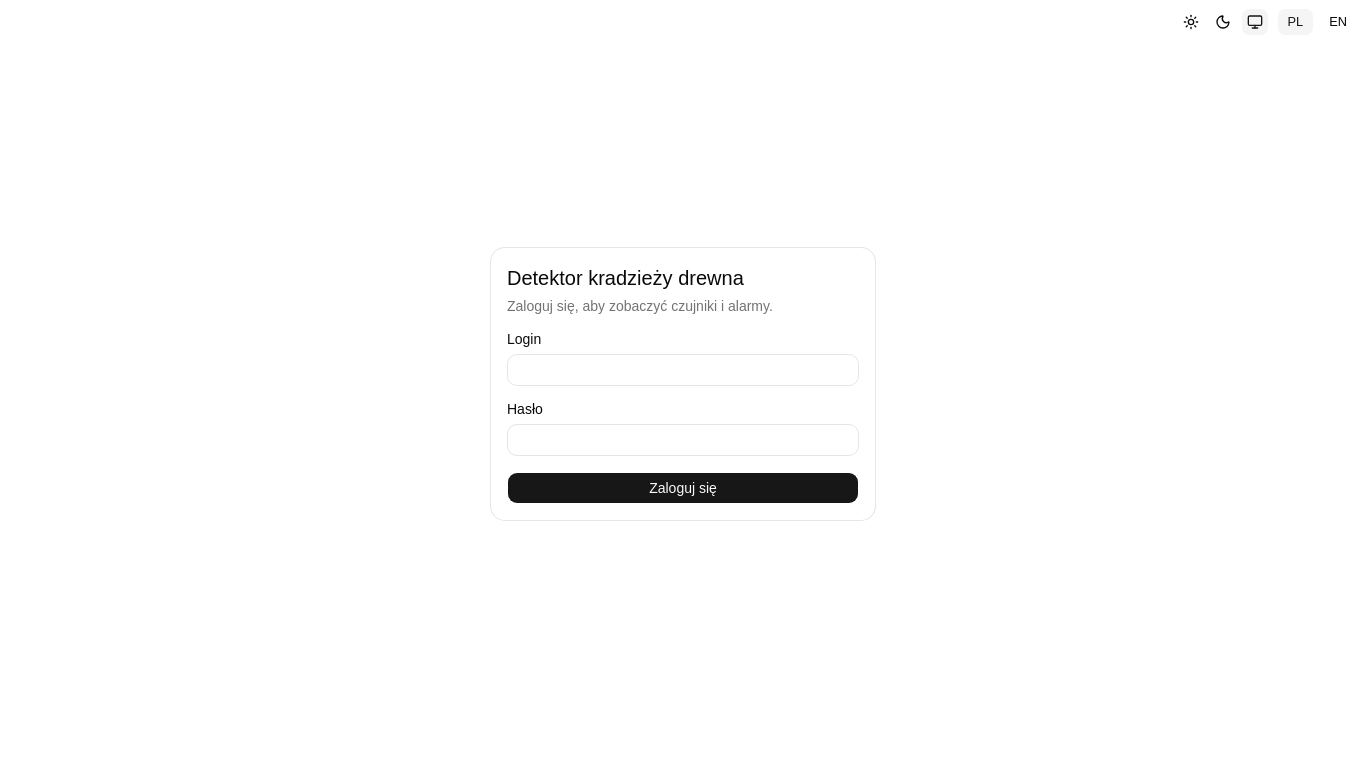
Scenario: login › logs out and removes the token
The image size is (1366, 768).
Type "admin" into the field labelled "Login" at (683, 370), box [507,354,859,386]
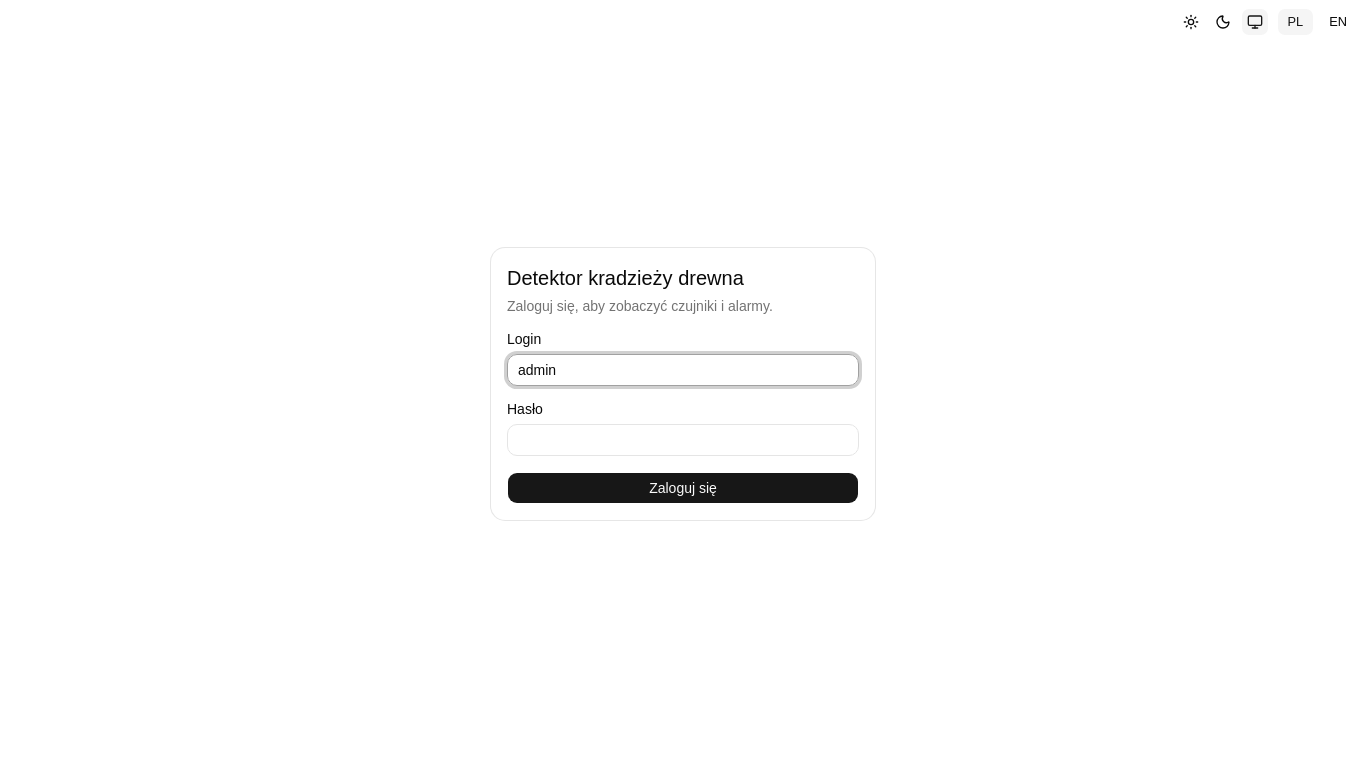
Type "admin123" into the password field labelled "Hasło" at (683, 440), box [507,424,859,456]
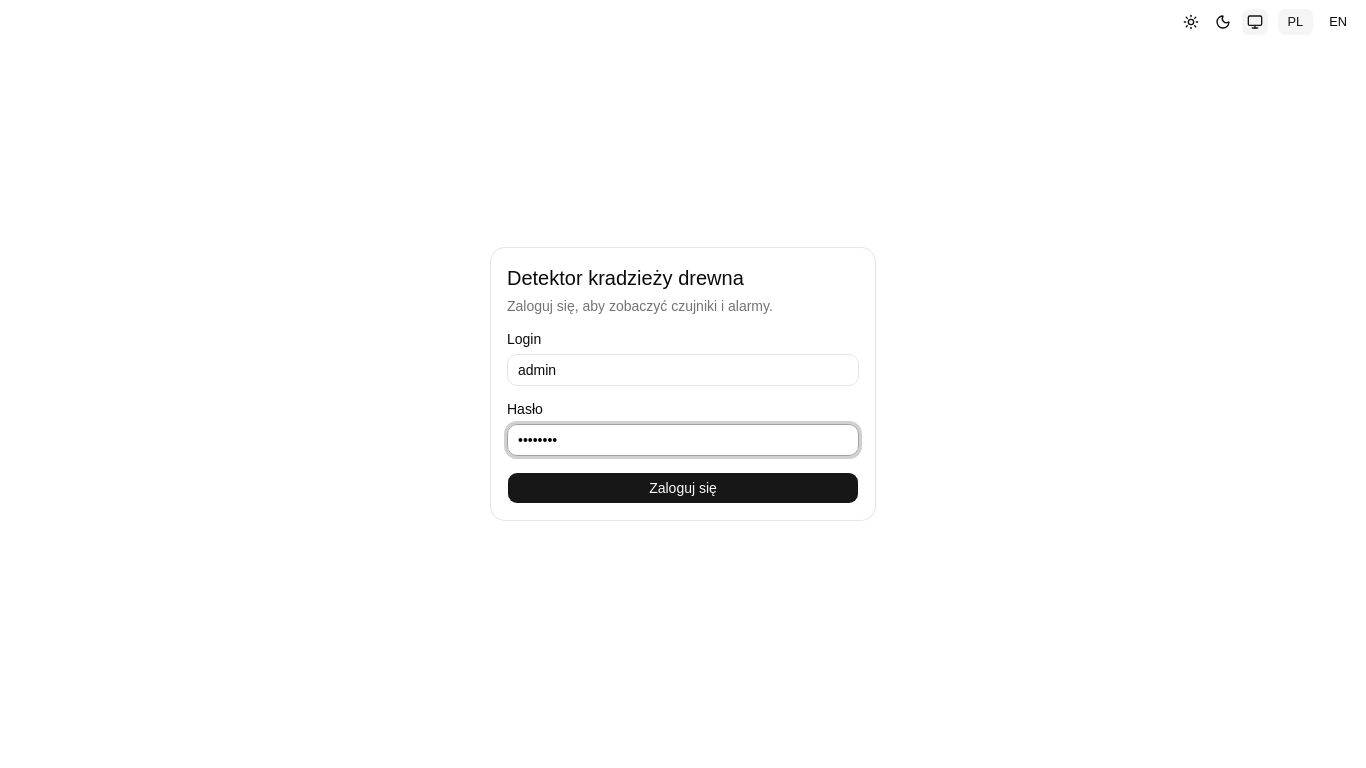
Click the button "Zaloguj się" at (683, 488), box [507,472,859,504]
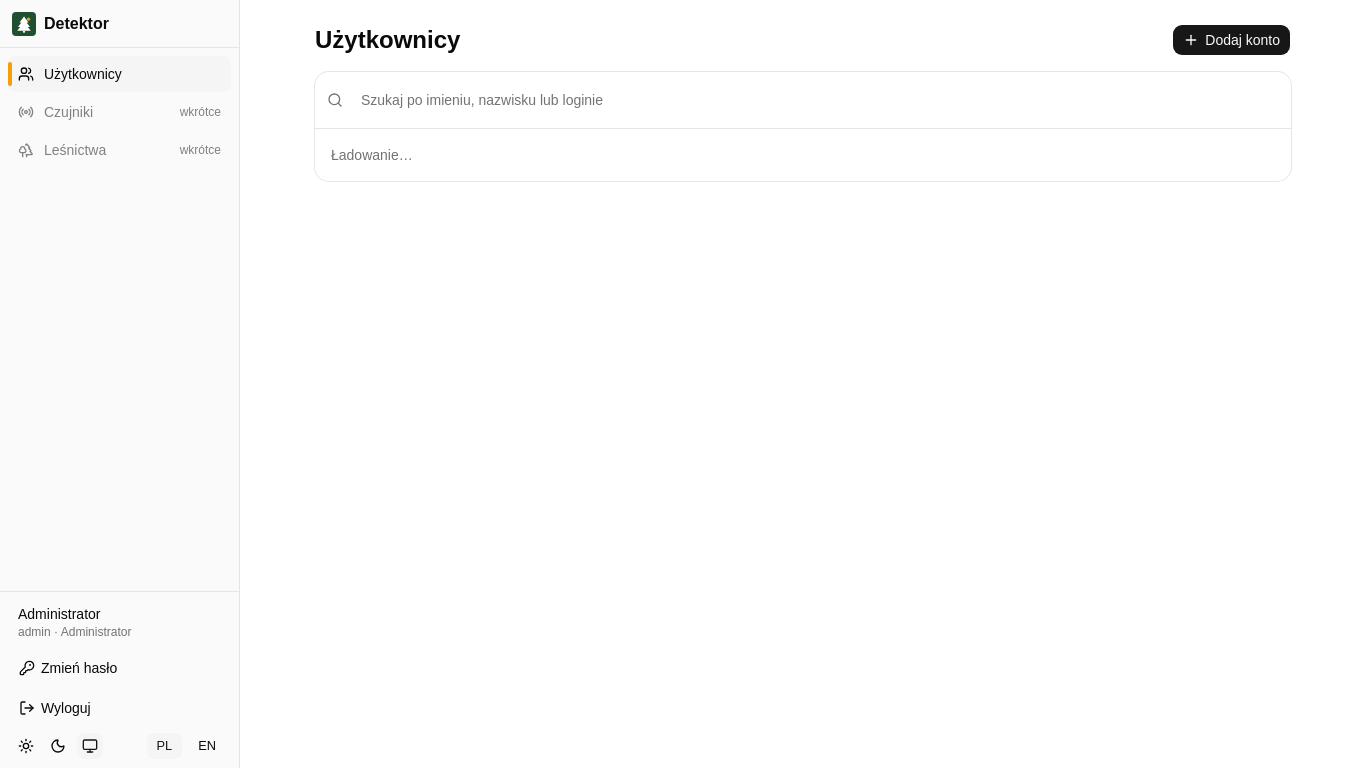
Click the button "Wyloguj" at (120, 708), box [8,692,231,724]
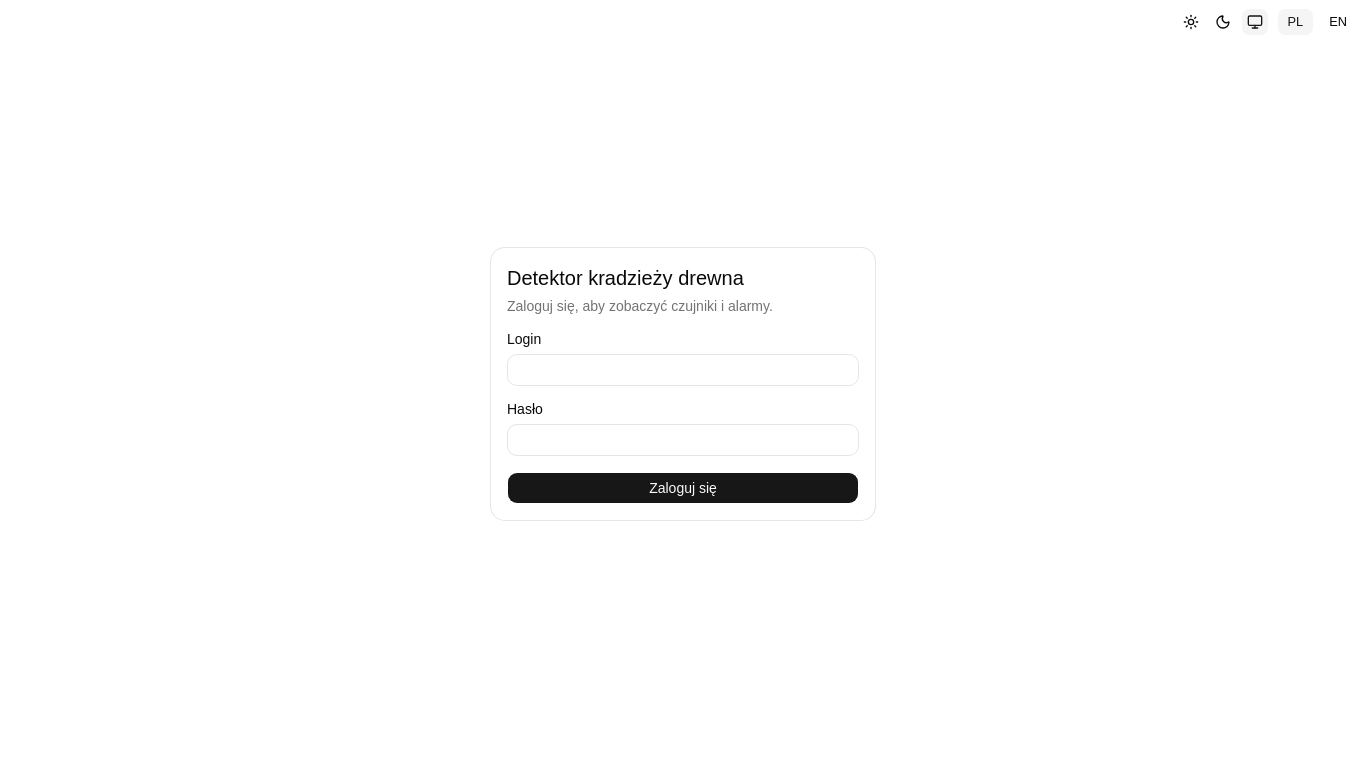
Check: the button "Zaloguj się" is shown, box [507,472,859,504]
